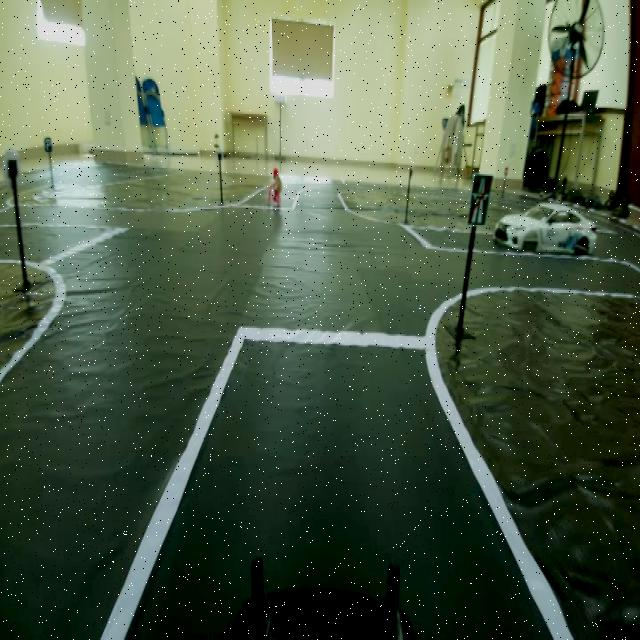highway_exit: (463, 164, 497, 230)
